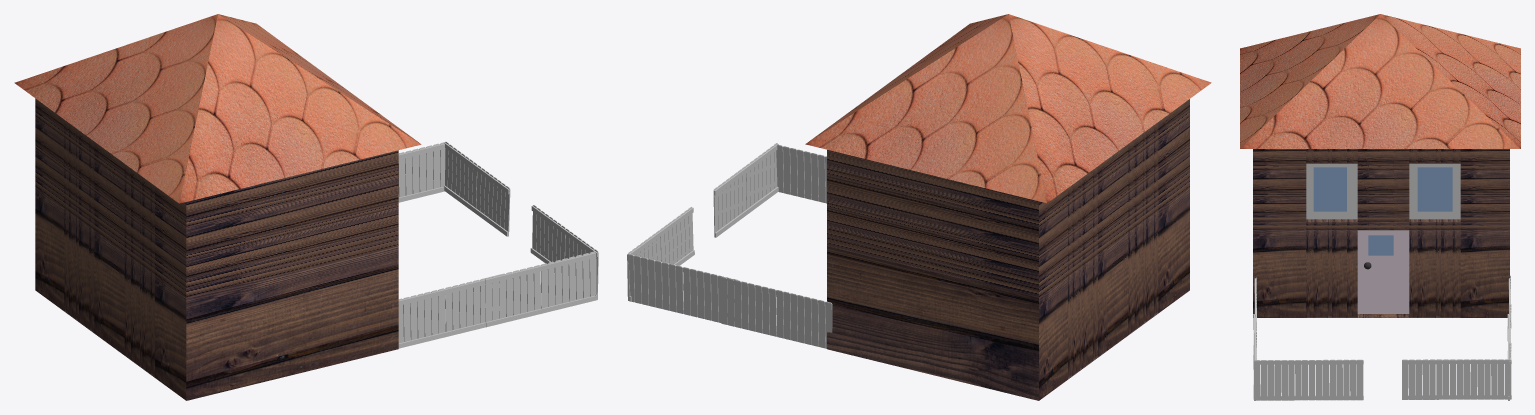
File: haus5_mit_vorgarten.fbx
The picture shows the model from 3 angles, left to right: view 1: azimuth 30°, elevation 25°; view 2: azimuth 150°, elevation 25°; view 3: azimuth 270°, elevation 25°; orthographic projection. The views are drawn at different scales.
Parts seen in each view (by area): view 1: haus, zaun; view 2: haus, zaun; view 3: haus, zaun.
Boxes of the visible parts, left/top/right/bottom form: haus: left=14, top=14, right=421, bottom=400; zaun: left=398, top=141, right=598, bottom=348; haus: left=805, top=14, right=1211, bottom=400; zaun: left=627, top=143, right=832, bottom=348; haus: left=1240, top=14, right=1520, bottom=317; zaun: left=1253, top=275, right=1511, bottom=400.
Size of the model in its own units: 1173 by 1754 by 1200.
Materials: 12 (2 with a texture image).
